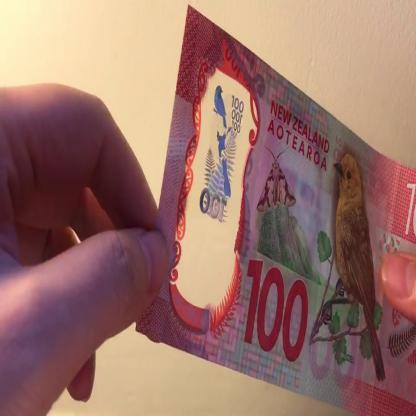100B: (199, 80, 247, 242)
